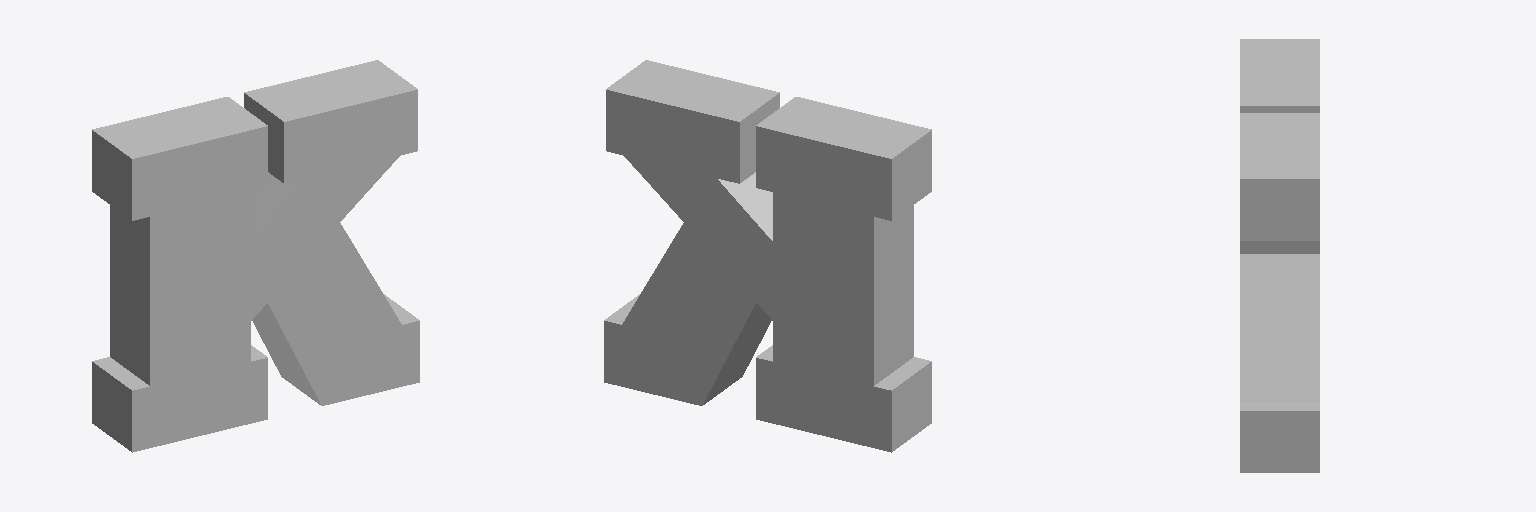
3 views of the same model, side by side, from view 1: azimuth 30°, elevation 25°; view 2: azimuth 150°, elevation 25°; view 3: azimuth 270°, elevation 25° (orthographic).
Parts seen in each view (by area): view 1: text: ABCDEFGHIJKLMNOPQRSTUVWXYZ[number redacted]; view 2: text: ABCDEFGHIJKLMNOPQRSTUVWXYZ[number redacted]; view 3: text: ABCDEFGHIJKLMNOPQRSTUVWXYZ[number redacted].
Boxes of the visible parts, x1=… form: text: ABCDEFGHIJKLMNOPQRSTUVWXYZ[number redacted]: x1=92, y1=60, x2=419, y2=452; text: ABCDEFGHIJKLMNOPQRSTUVWXYZ[number redacted]: x1=604, y1=60, x2=931, y2=452; text: ABCDEFGHIJKLMNOPQRSTUVWXYZ[number redacted]: x1=1240, y1=39, x2=1319, y2=472.
Bounding box in the file's own units: 103 × 100 × 25.